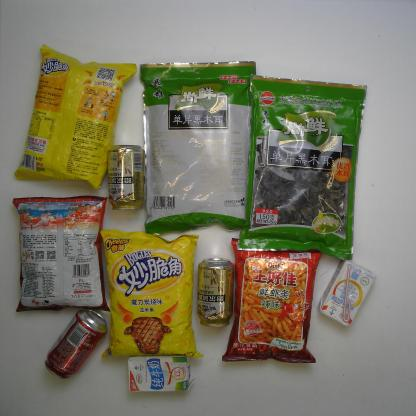Alcohol: (105, 143, 147, 212), (195, 256, 232, 328)
Dried Food: (237, 74, 369, 260), (136, 60, 258, 234)
Drink: (44, 307, 109, 380)
Milk: (316, 259, 377, 328), (127, 353, 196, 393)
Puffed Food: (13, 43, 138, 190), (100, 228, 205, 360), (221, 236, 323, 366), (11, 193, 113, 314)
